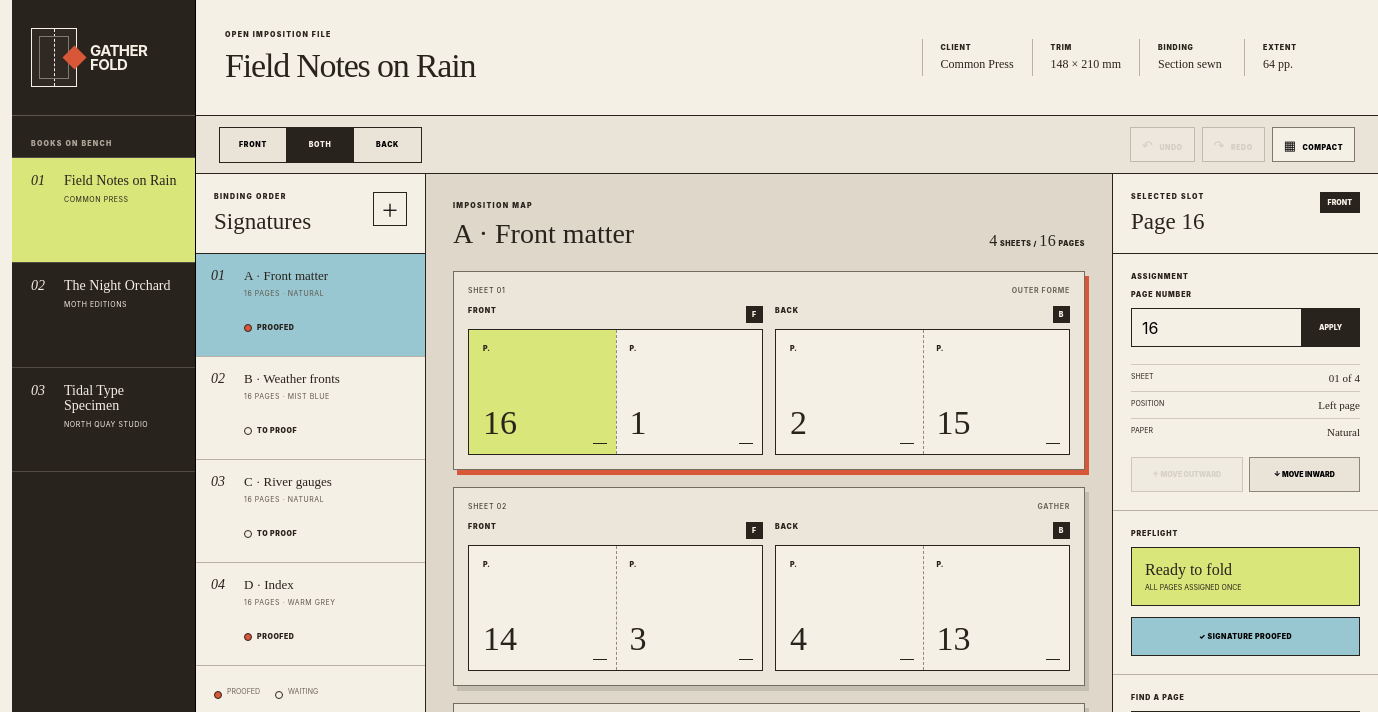
Test: Gatherfold workbench › edits an assignment and exposes missing and repeated pages
The width and height of the screenshot is (1378, 712).
Step 1. Replace the text in the number field labelled "Page number" with "15" → (1216, 328), box [1131,308,1302,347]
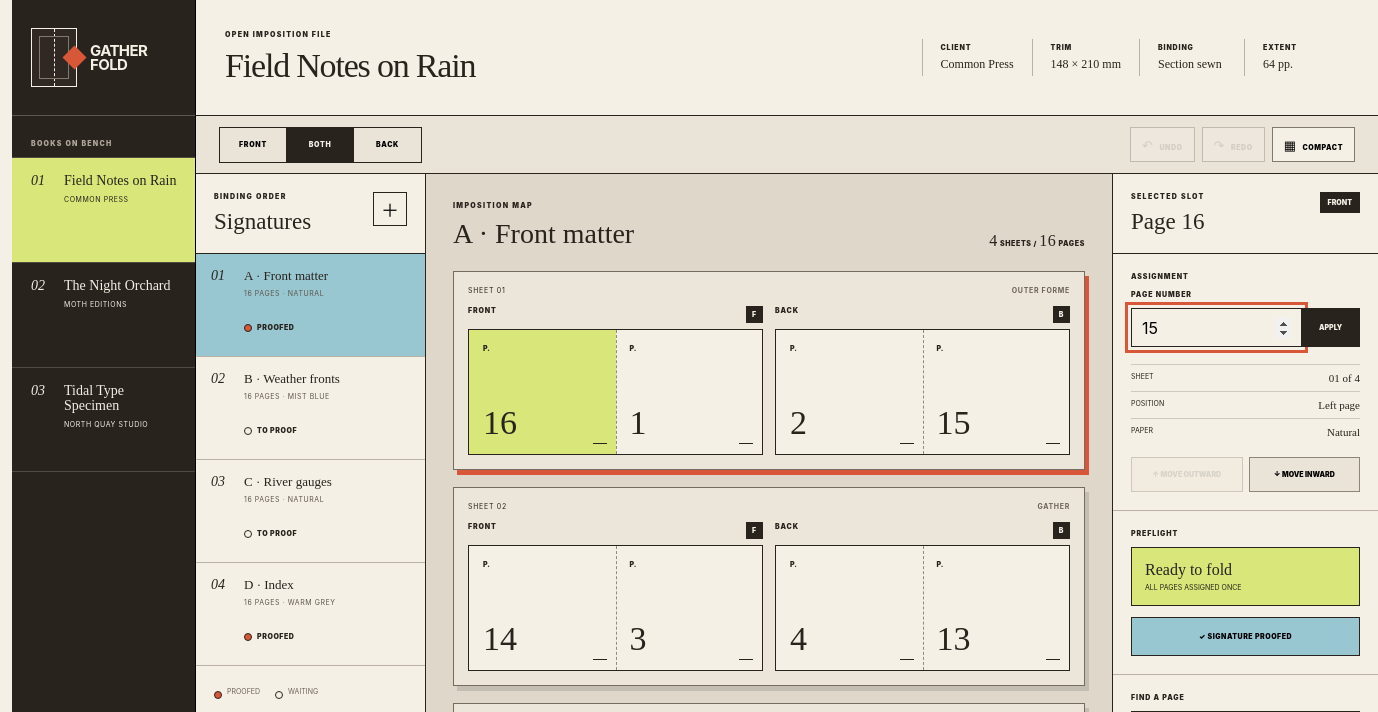
Step 2. Click the button "Apply" → (1331, 328), box [1302,308,1360,347]
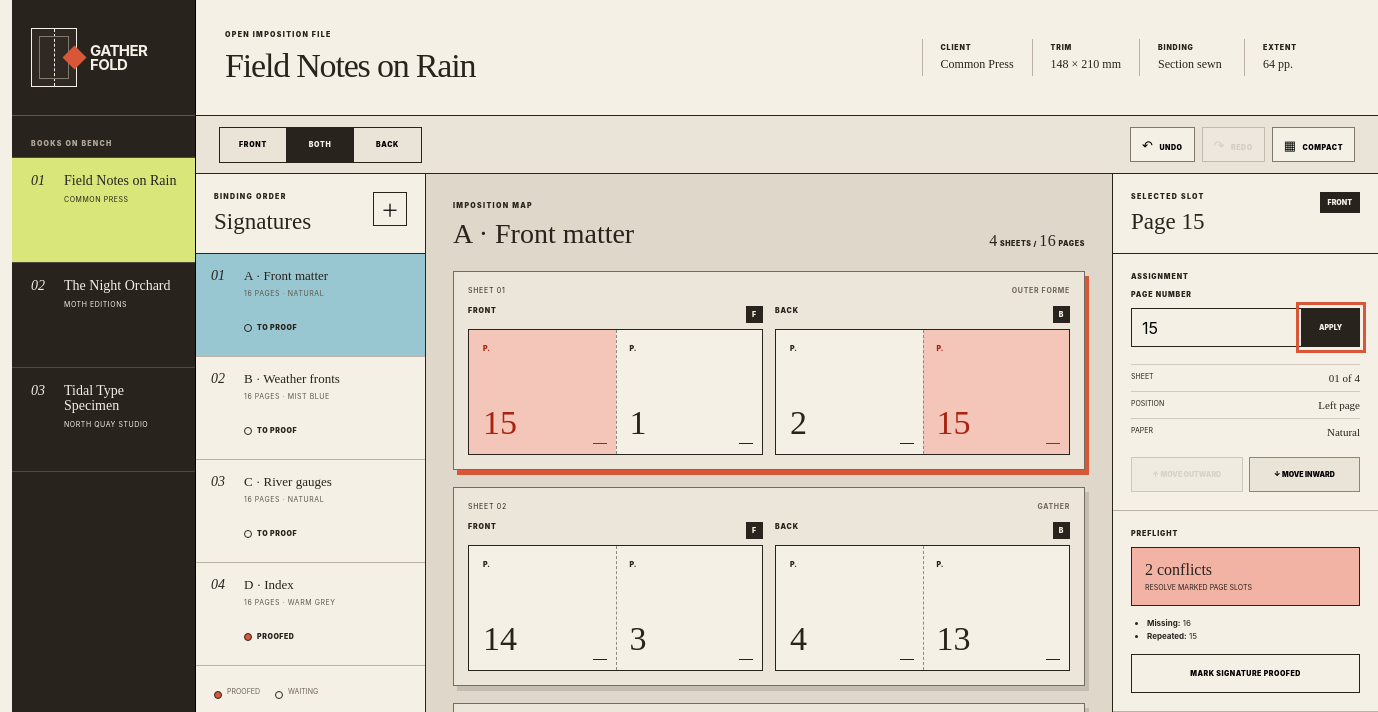
Expected: the heading "Page 15" is shown, [1131,209,1205,235]
Expected: the text "2 conflicts" is shown, [1145,561,1212,578]
Expected: the list item "Missing:" reads "Missing: 16", [1147,618,1191,628]
